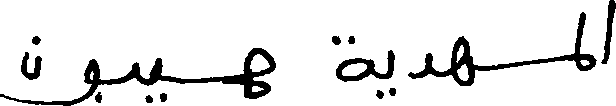ا: (602, 0, 615, 65)
ب: (95, 59, 138, 100)
ة: (327, 31, 371, 82)
د: (407, 48, 434, 79)
ل: (574, 9, 595, 61)
م: (557, 50, 596, 72)
ن: (13, 34, 43, 81)
ه: (243, 45, 274, 99), (450, 34, 476, 89)
و: (38, 34, 99, 103)
ي: (144, 56, 168, 102), (374, 47, 394, 96)
